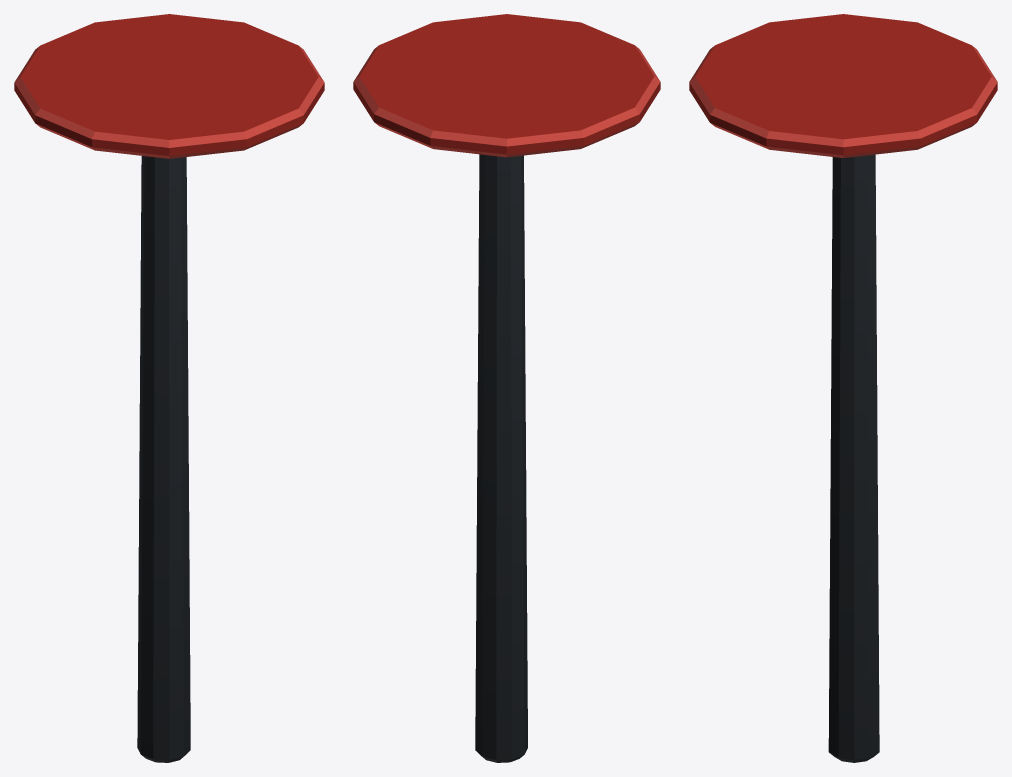
The model's file is road-sign-disc-v1.glb.
The picture shows the model from 3 angles, left to right: view 1: azimuth 30°, elevation 25°; view 2: azimuth 150°, elevation 25°; view 3: azimuth 270°, elevation 25°; orthographic projection.
Visible parts, largest first — view 1: road-sign-disc-v1.lod0; view 2: road-sign-disc-v1.lod0; view 3: road-sign-disc-v1.lod0.
Boxes of the visible parts, x1=… form: road-sign-disc-v1.lod0: x1=14, y1=14, x2=324, y2=762; road-sign-disc-v1.lod0: x1=353, y1=14, x2=660, y2=762; road-sign-disc-v1.lod0: x1=689, y1=14, x2=997, y2=762.
Bounding box in the file's own units: 1.04 × 2.52 × 1.04.
